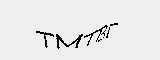В: (94, 22, 108, 44)
Г: (103, 22, 118, 40)
М: (54, 32, 83, 52)
Т: (34, 29, 53, 51), (81, 27, 100, 48)
